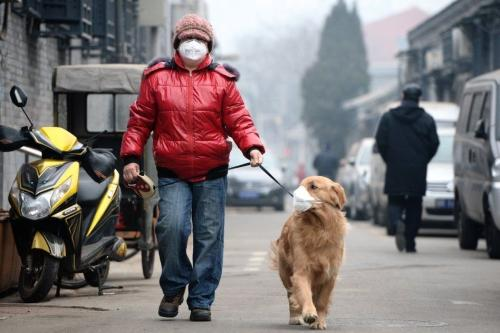yes_mask: (170, 13, 214, 68), (292, 174, 348, 215)
